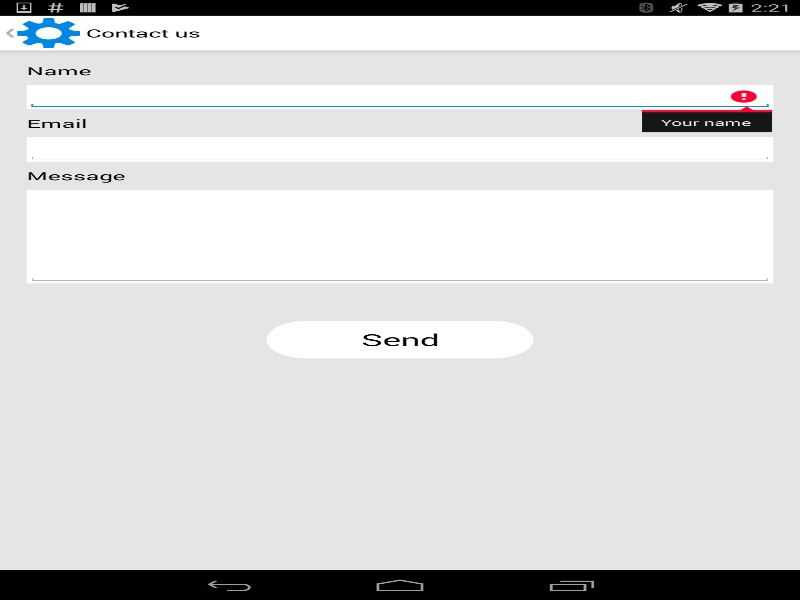Button: (266, 320, 533, 358)
Input: (26, 189, 773, 283), (26, 84, 773, 109), (26, 137, 773, 161)
